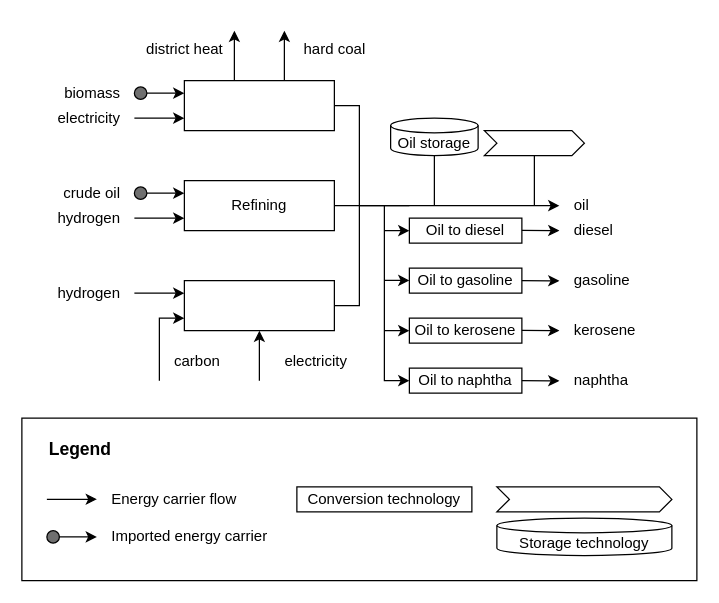
This 719x603 diagram has some shape labels left out. The centre of each missing label's shape, as x and y in pixels:
"Fischer-Tropsch" belongs at (x=258, y=305).
"Oil pipeline" belongs at (x=533, y=142).
"Pyrolysis" belongs at (x=258, y=105).
"Transport technology" belongs at (x=584, y=499).
